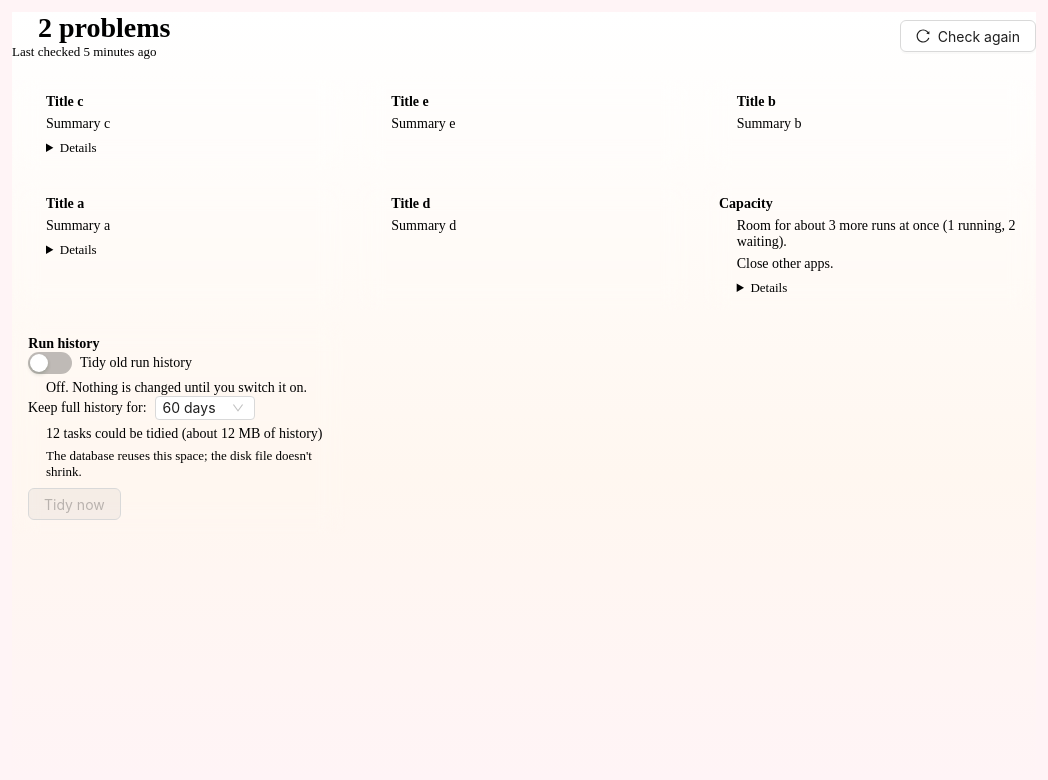
Scenario: Run history card › the switch saves, and shows the last run
Click the switch named "Tidy old run history". click: (50, 363)
box: [28,352,72,374]
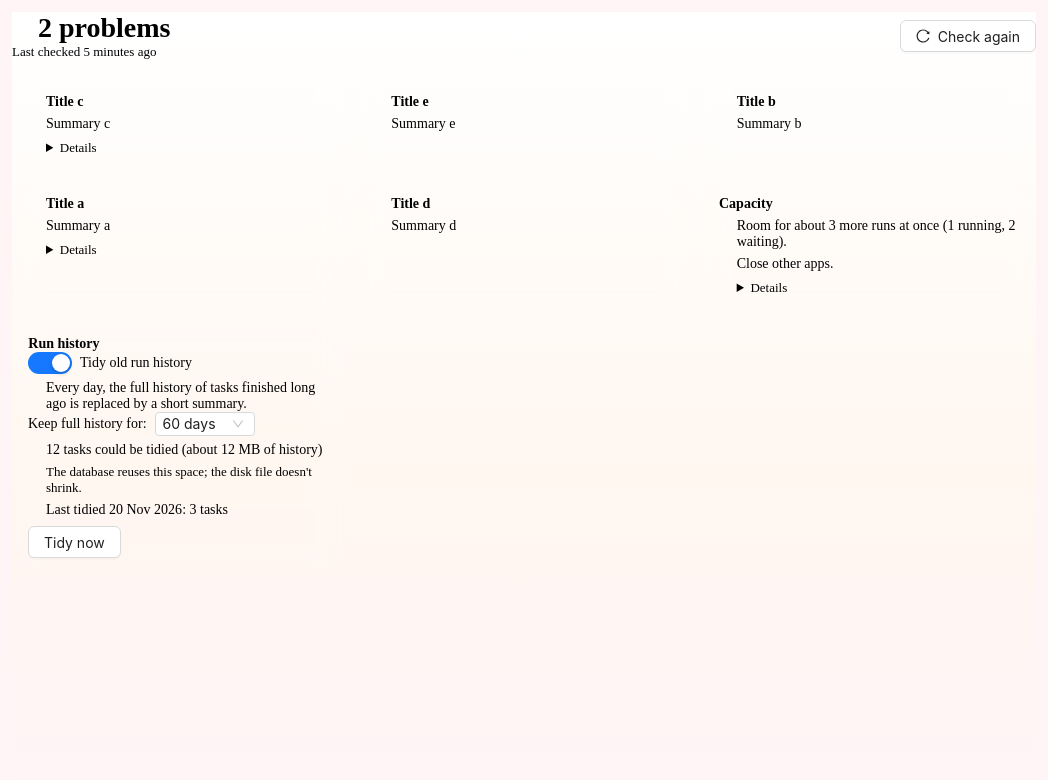
Expected: the text "Last tidied 20 Nov 2026: 3 tasks" is shown, [46,502,228,517]
